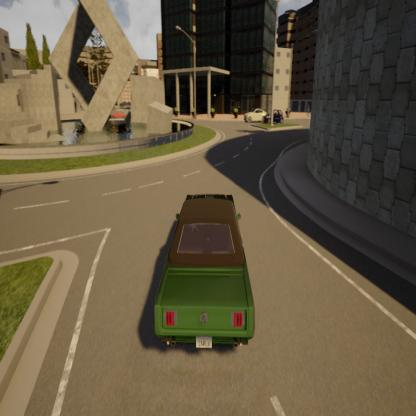Cars: (152, 186, 262, 366), (242, 103, 270, 128), (264, 107, 284, 127)
